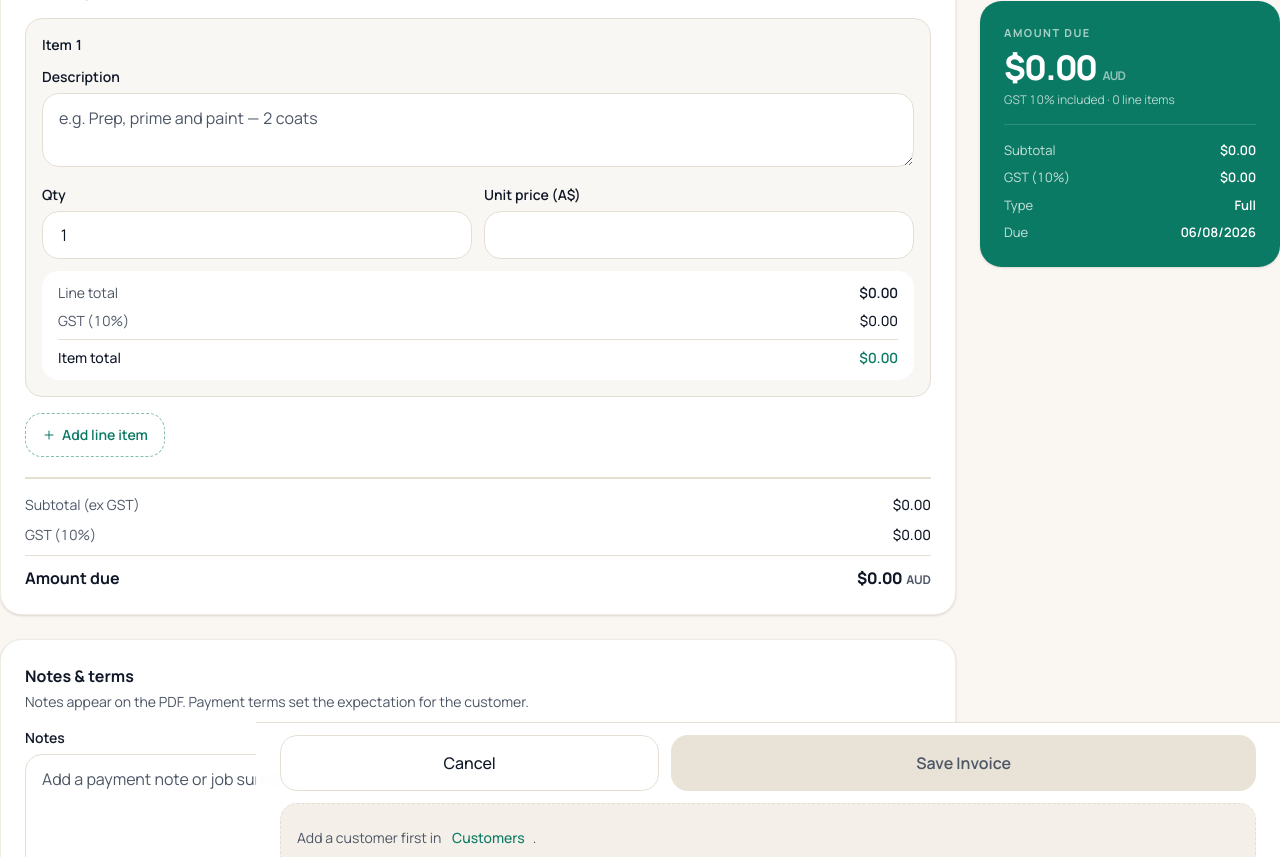
InvoiceForm › allows adding and removing line items
The image size is (1280, 857).
(page scrolled)
Step 1. Click the button "Add line item" → (95, 435), box [25,413,165,457]
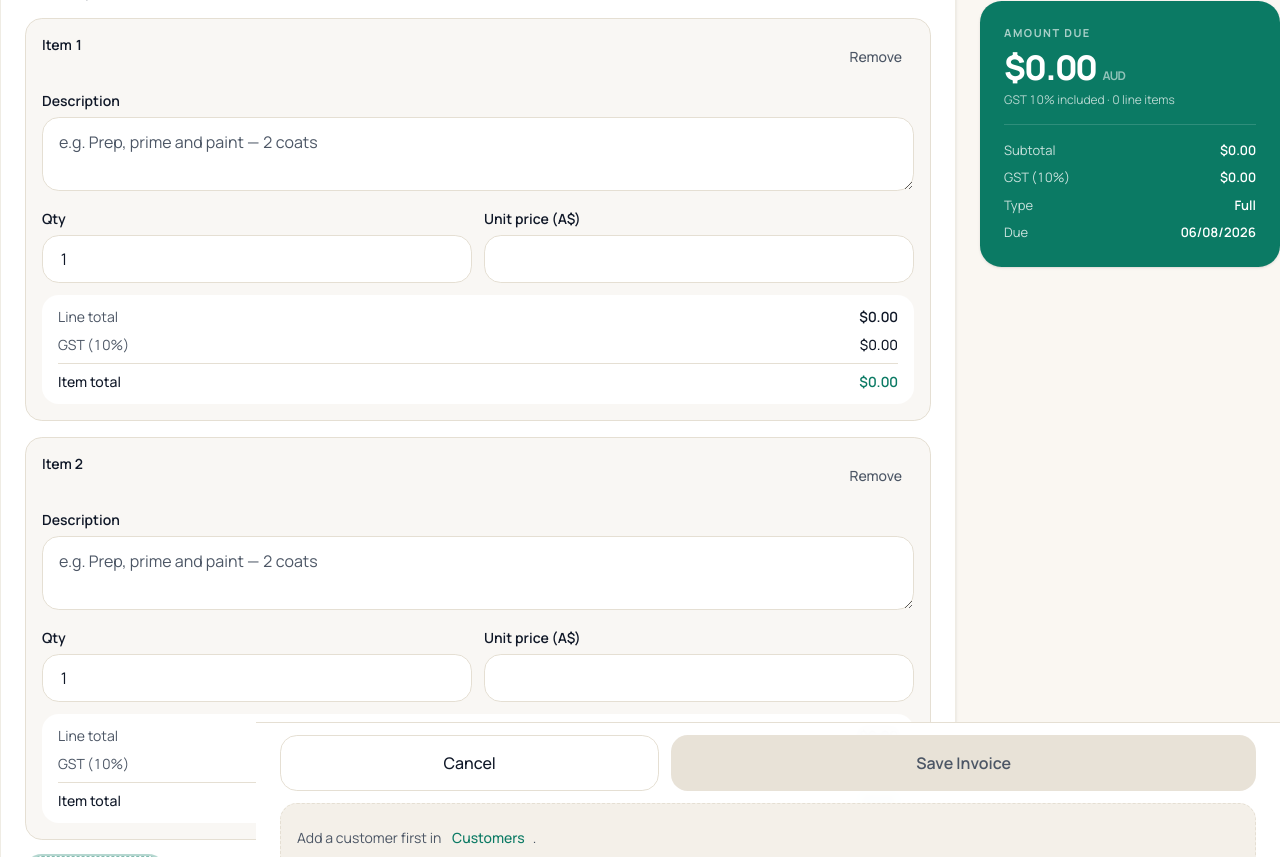
Expected: the number of text boxes labelled "Description" is 2, [42,117,914,191]; [42,536,914,610]
Expected: the number of number fields labelled "Qty" is 2, [42,235,472,283]; [42,654,472,702]
Step 2. Click the 1st button "Remove" → (876, 57), box [838,35,914,79]
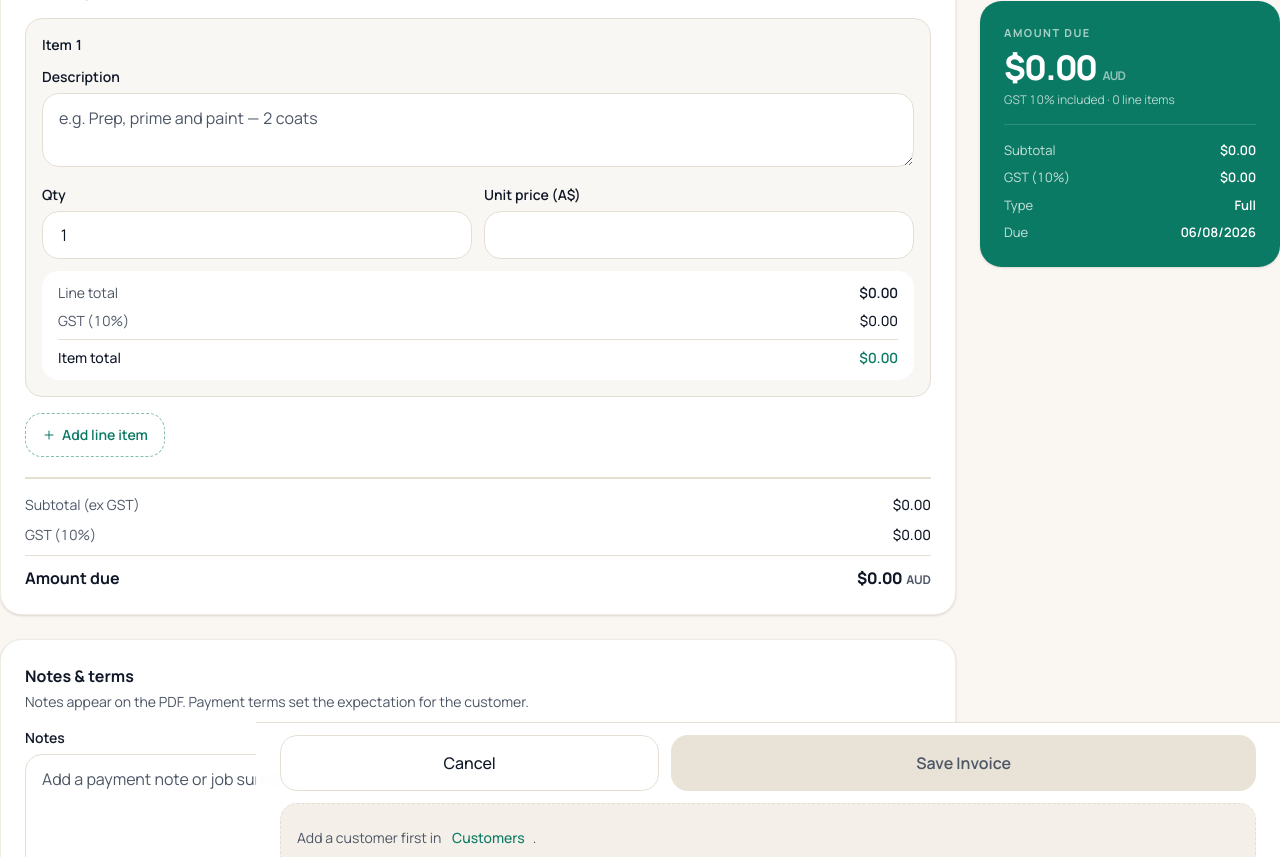
Expected: the number of text boxes labelled "Description" is 1, [42,93,914,167]
